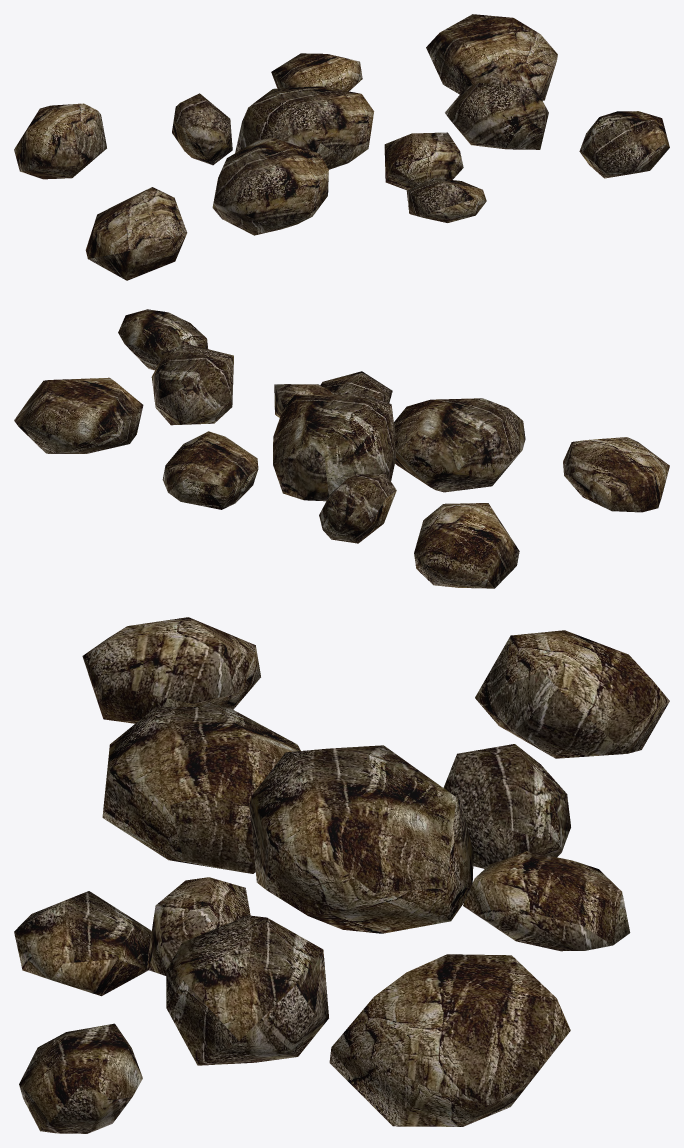
The model's file is KM_VOB_RIVER_ROCKS_02_1.glb.
3 renders of one model, top to bottom at view 1: azimuth 30°, elevation 25°; view 2: azimuth 150°, elevation 25°; view 3: azimuth 270°, elevation 25°, orthographic. The views are drawn at different scales.
Parts seen in each view (by area): view 1: Mesh; view 2: Mesh; view 3: Mesh.
Part boxes in pixels (bbox=[...]): Mesh: bbox=[14, 14, 669, 280]; Mesh: bbox=[14, 309, 669, 588]; Mesh: bbox=[14, 617, 669, 1133].
Bounding box in the file's own units: 1.44 × 0.2241 × 0.8416.
1 material, 1 textured.
